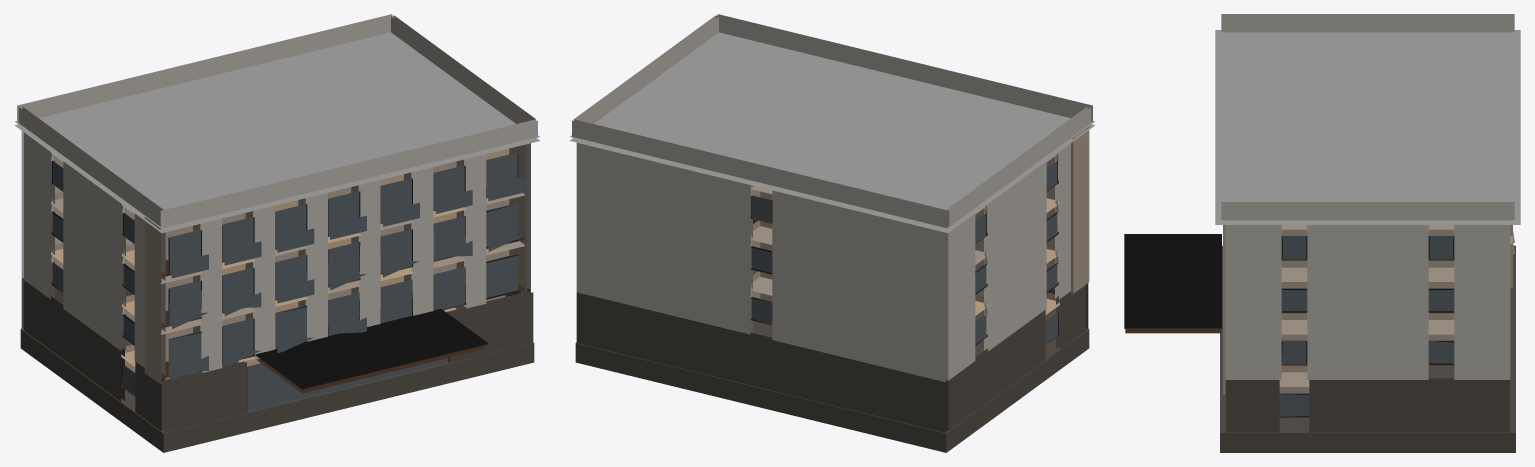
Rendered from hotel_24x16_4_far.glb.
3 renders of one model, left to right at view 1: azimuth 30°, elevation 25°; view 2: azimuth 150°, elevation 25°; view 3: azimuth 270°, elevation 25°, orthographic. The views are drawn at different scales.
Visible parts, largest first — view 1: hotel_24x16_4; view 2: hotel_24x16_4; view 3: hotel_24x16_4.
Part boxes in pixels (x1,y1,x2,y2): hotel_24x16_4: [15, 14, 539, 452]; hotel_24x16_4: [570, 14, 1094, 452]; hotel_24x16_4: [1124, 14, 1520, 452].
Bounding box in the file's own units: 24.6 × 15.04 × 21.55.
